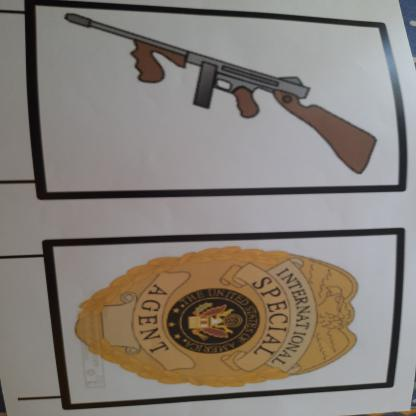Bootlegger: (52, 6, 391, 188)
G-man: (66, 245, 370, 395)
